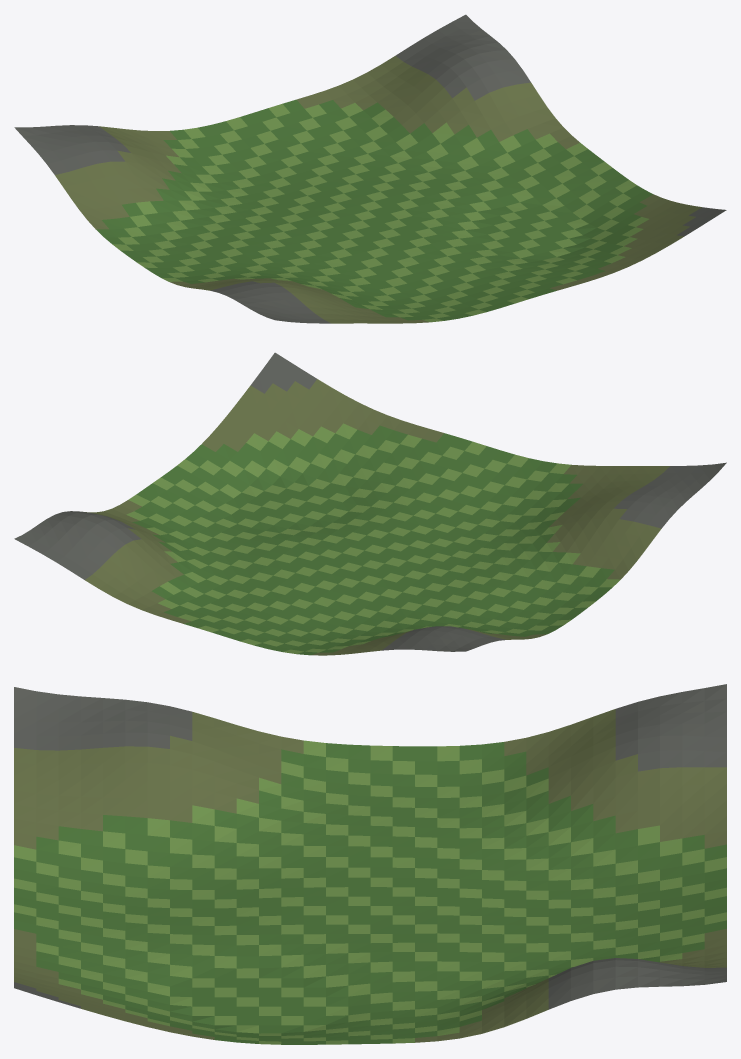
Rendered from terrain.obj.
3 views of the same model, one above another, from view 1: azimuth 30°, elevation 25°; view 2: azimuth 150°, elevation 25°; view 3: azimuth 270°, elevation 25° (orthographic). The views are drawn at different scales.
Visible parts, largest first — view 1: StoryWorld_TerrainMesh; view 2: StoryWorld_TerrainMesh; view 3: StoryWorld_TerrainMesh.
Boxes of the visible parts, box(x1,y1,x2,y2) form: StoryWorld_TerrainMesh: box(14, 14, 726, 323); StoryWorld_TerrainMesh: box(14, 352, 726, 655); StoryWorld_TerrainMesh: box(14, 684, 726, 1044).
Bounding box in the file's own units: 120 × 16.81 × 120.
